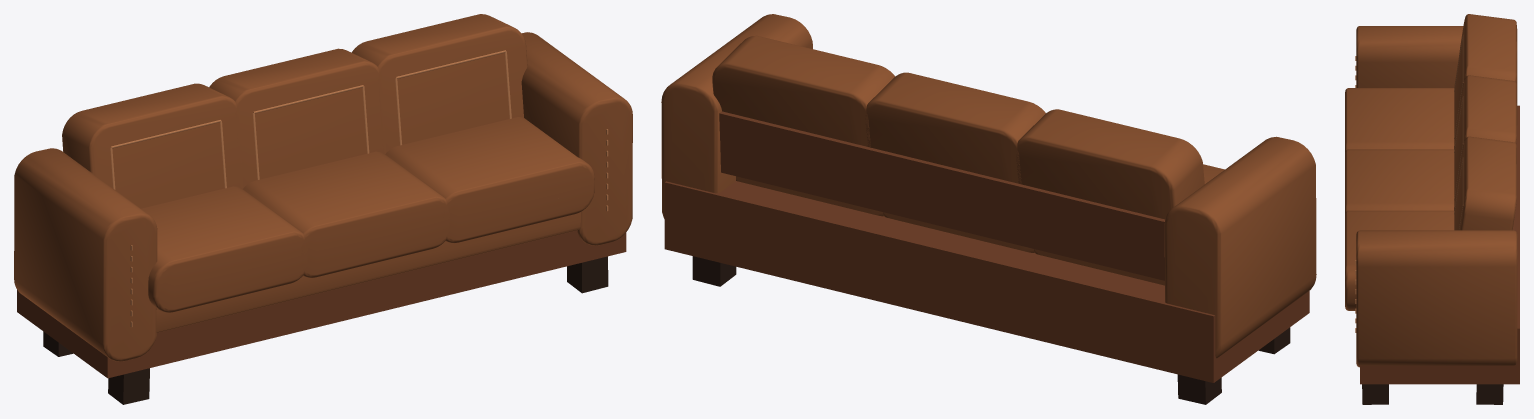
Rendered from cognac-leather-sofa-armDepth-min.glb.
The picture shows the model from 3 angles, left to right: view 1: azimuth 30°, elevation 25°; view 2: azimuth 150°, elevation 25°; view 3: azimuth 270°, elevation 25°; orthographic projection. The views are drawn at different scales.
Visible parts, largest first — view 1: sofa-part-28, sofa-part-4, back-cushion-3-part-0, seat-cushion-1-part-0, seat-cushion-2-part-0, back-cushion-1-part-0, back-cushion-2-part-0, seat-cushion-3-part-0, sofa-part-7, sofa-part-5, sofa-part-2, sofa-part-0; view 2: sofa-part-4, sofa-part-6, sofa-part-28, back-cushion-3-part-0, back-cushion-1-part-0, back-cushion-2-part-0, sofa-part-7, sofa-part-3, sofa-part-1, seat-cushion-3-part-0, seat-cushion-2-part-0, seat-cushion-1-part-0; view 3: sofa-part-7, seat-cushion-2-part-0, seat-cushion-3-part-0, sofa-part-28, back-cushion-1-part-0, sofa-part-4, back-cushion-2-part-0, back-cushion-3-part-0, seat-cushion-1-part-0, sofa-part-1, sofa-part-0.
Part boxes in pixels (x1=…): sofa-part-28: x1=14, y1=148, x2=157, y2=361; sofa-part-4: x1=17, y1=230, x2=626, y2=378; back-cushion-3-part-0: x1=62, y1=83, x2=243, y2=208; seat-cushion-1-part-0: x1=385, y1=117, x2=594, y2=243; seat-cushion-2-part-0: x1=243, y1=151, x2=449, y2=277; back-cushion-1-part-0: x1=352, y1=14, x2=527, y2=153; back-cushion-2-part-0: x1=209, y1=48, x2=386, y2=187; seat-cushion-3-part-0: x1=141, y1=186, x2=307, y2=312; sofa-part-7: x1=521, y1=32, x2=632, y2=245; sofa-part-5: x1=156, y1=212, x2=580, y2=332; sofa-part-2: x1=108, y1=368, x2=149, y2=404; sofa-part-0: x1=567, y1=256, x2=608, y2=293; sofa-part-4: x1=664, y1=181, x2=1309, y2=382; sofa-part-6: x1=719, y1=111, x2=1165, y2=280; sofa-part-28: x1=1164, y1=136, x2=1316, y2=358; back-cushion-3-part-0: x1=1016, y1=109, x2=1204, y2=219; back-cushion-1-part-0: x1=712, y1=35, x2=894, y2=147; back-cushion-2-part-0: x1=865, y1=72, x2=1045, y2=184; sofa-part-7: x1=661, y1=14, x2=812, y2=218; sofa-part-3: x1=1177, y1=374, x2=1221, y2=404; sofa-part-1: x1=692, y1=256, x2=736, y2=286; seat-cushion-3-part-0: x1=1034, y1=164, x2=1224, y2=285; seat-cushion-2-part-0: x1=883, y1=212, x2=1034, y2=252; seat-cushion-1-part-0: x1=736, y1=176, x2=883, y2=216; sofa-part-7: x1=1356, y1=230, x2=1517, y2=367; seat-cushion-2-part-0: x1=1345, y1=149, x2=1454, y2=214; seat-cushion-3-part-0: x1=1345, y1=88, x2=1454, y2=152; sofa-part-28: x1=1356, y1=26, x2=1517, y2=125; back-cushion-1-part-0: x1=1454, y1=136, x2=1516, y2=230; sofa-part-4: x1=1360, y1=105, x2=1519, y2=384; back-cushion-2-part-0: x1=1454, y1=75, x2=1516, y2=209; back-cushion-3-part-0: x1=1454, y1=14, x2=1516, y2=147; seat-cushion-1-part-0: x1=1345, y1=210, x2=1454, y2=310; sofa-part-1: x1=1476, y1=384, x2=1503, y2=404; sofa-part-0: x1=1362, y1=384, x2=1388, y2=404.
Bounding box in the file's own units: 2.64 × 1.08 × 0.853.
